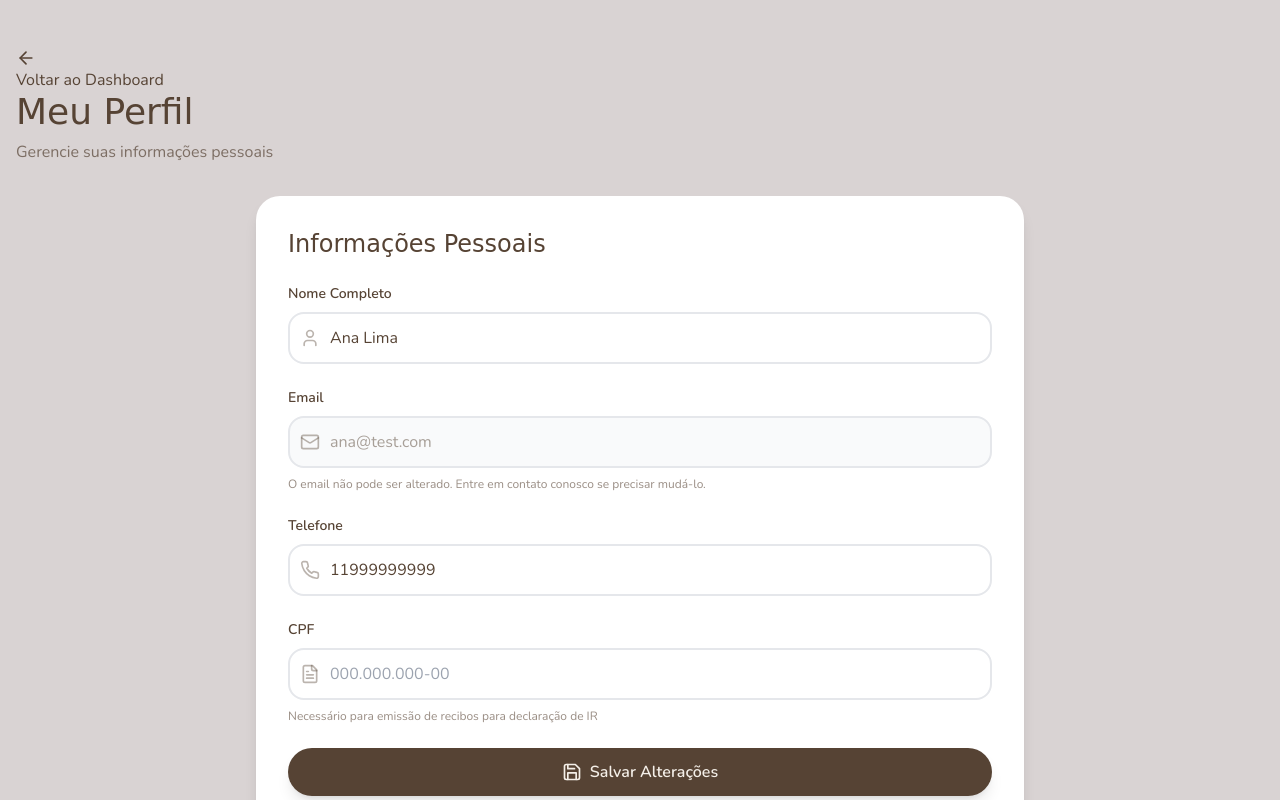
Scenario: PerfilPage › shows error message when updateProfile throws
The image size is (1280, 800).
Click the button "Salvar Alterações" at (640, 772), box top-left (288, 748), bottom-right (992, 796)
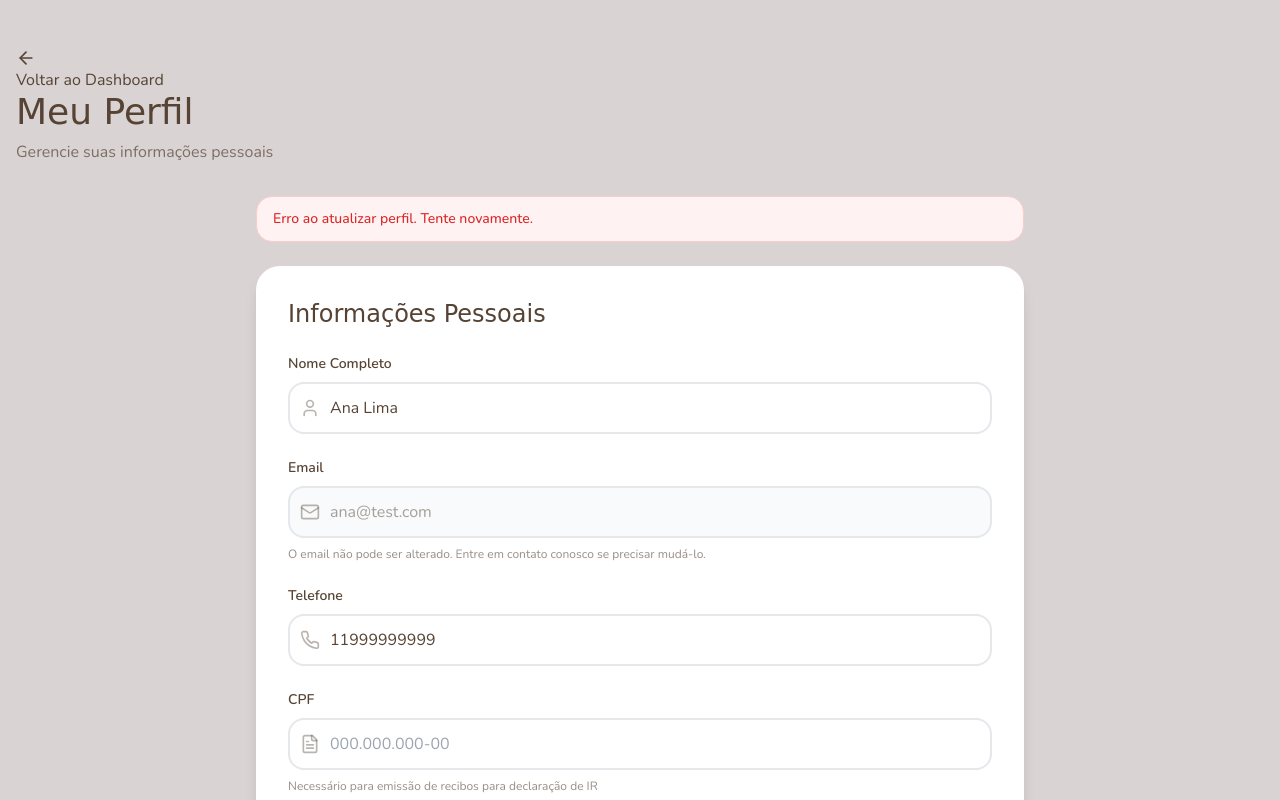
expect the text "Erro ao atualizar perfil. Tente novamente." is shown: met, box top-left (273, 209), bottom-right (533, 229)
